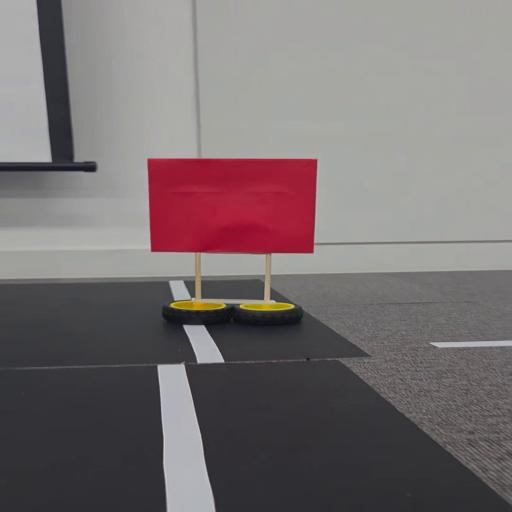Sign_A: (144, 154, 320, 334)
